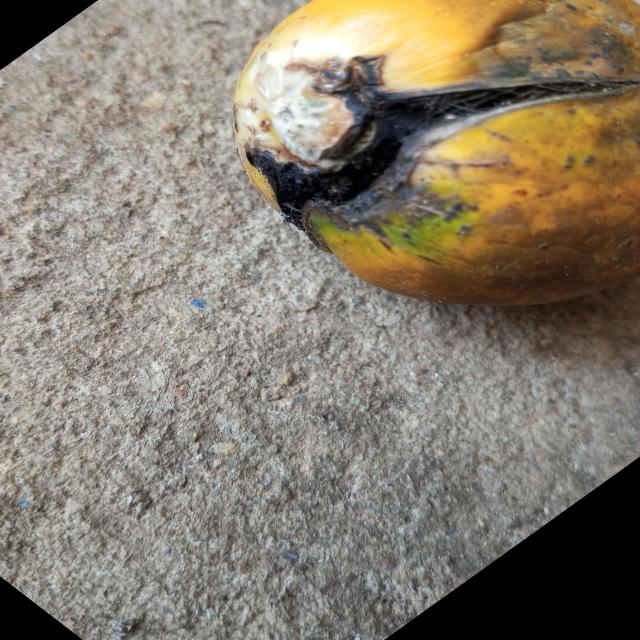damaged: (232, 0, 640, 310)
